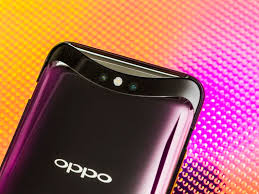oppo: (1, 39, 204, 194)
